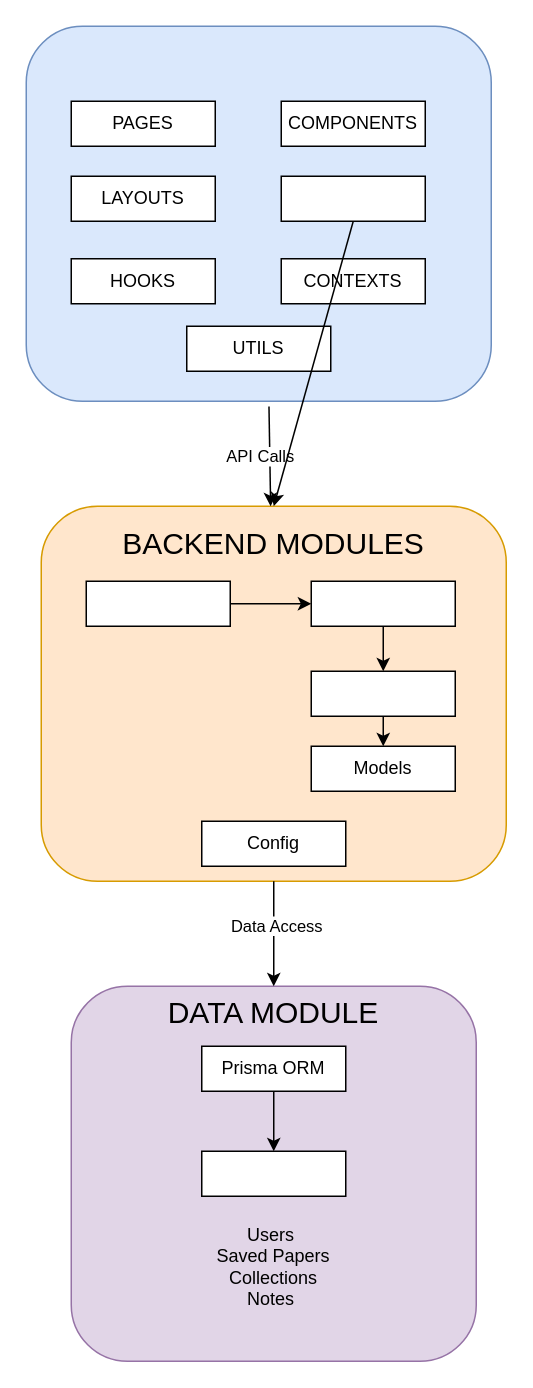
This 533x1388 diagram has some shape labels left out. The box of each missing label's shape, as (x1, y1, x2, y2) in pixels:
Controllers: (310, 580, 455, 626)
FRONTEND MODULES: (25, 25, 491, 401)
Middleware: (310, 670, 455, 716)
PostrgreSQL: (200, 1150, 346, 1196)
Routes: (85, 580, 230, 626)
SERVICES: (280, 175, 425, 221)
